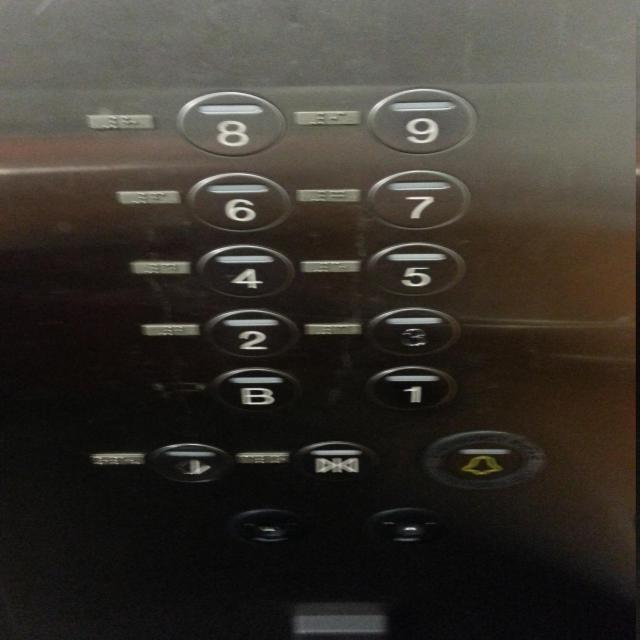1: (360, 362, 462, 416)
2: (201, 306, 303, 361)
3: (363, 304, 465, 358)
4: (188, 242, 299, 303)
5: (361, 240, 472, 300)
6: (180, 169, 294, 235)
7: (360, 166, 474, 232)
8: (170, 88, 290, 159)
9: (358, 85, 479, 156)
B: (204, 363, 306, 418)
alarm: (413, 428, 553, 493)
close: (290, 438, 380, 486)
keyhole: (224, 502, 314, 550), (360, 504, 450, 552)
open: (144, 439, 234, 487)
